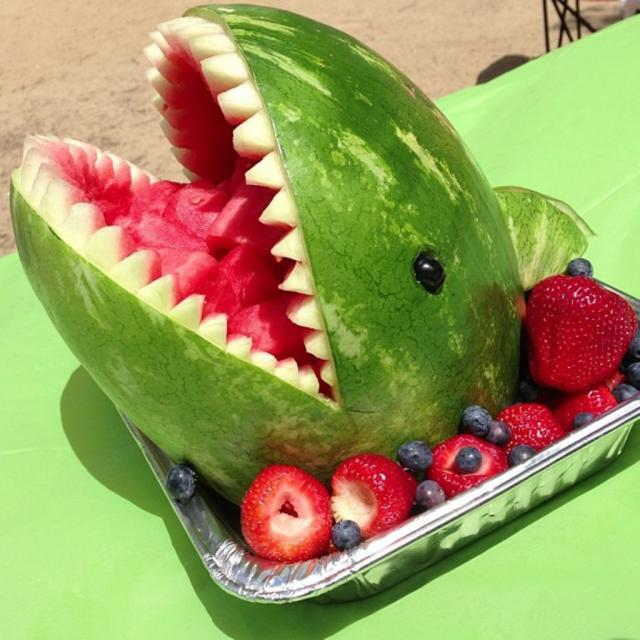Watermelon: (5, 4, 595, 504)
